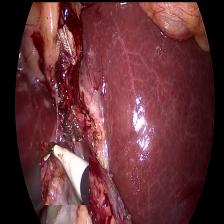Hook: (40, 141, 88, 204)
